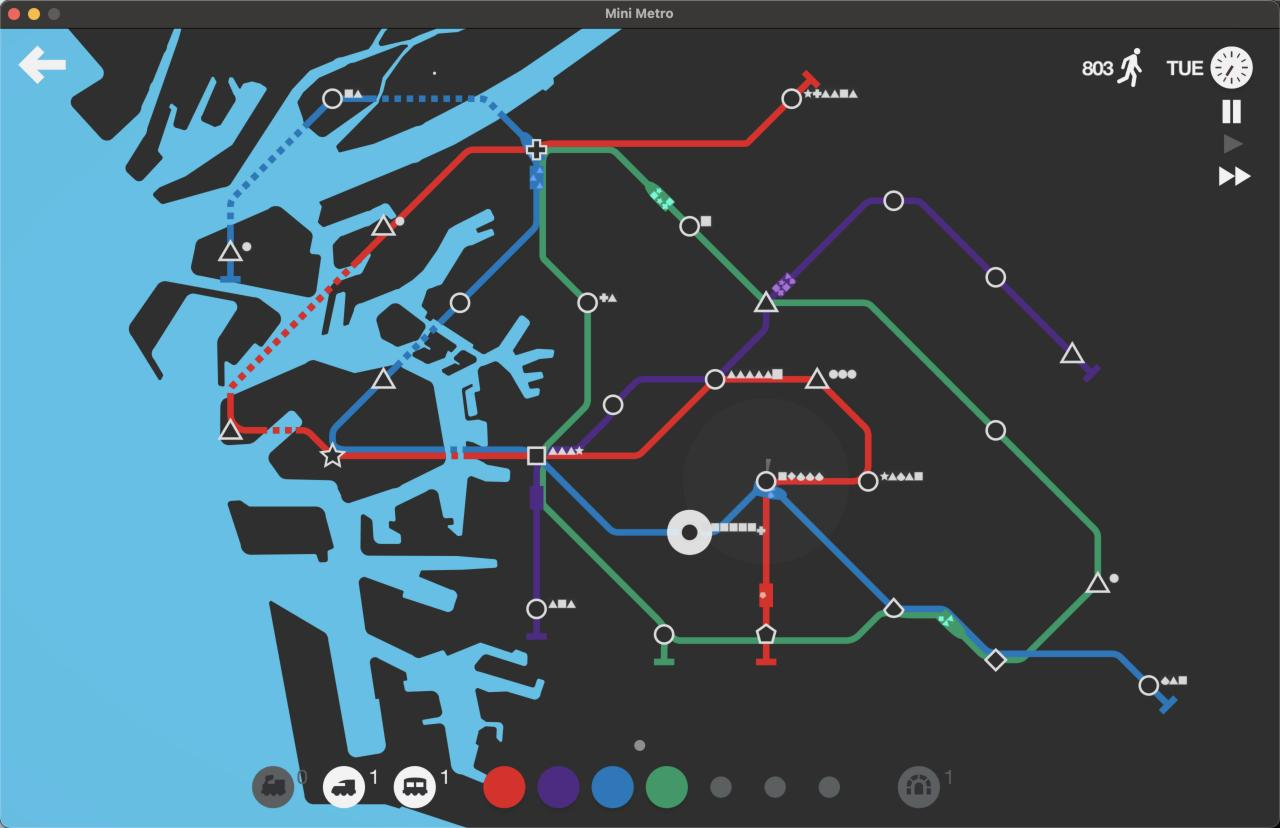CIRCLE: (754, 290, 779, 314), (804, 367, 829, 390), (1085, 572, 1111, 594), (448, 291, 473, 313), (525, 598, 548, 621), (577, 292, 599, 314), (602, 394, 624, 416), (985, 420, 1007, 442), (780, 87, 802, 109), (755, 471, 777, 493), (678, 523, 701, 544), (679, 216, 701, 237), (704, 369, 726, 390), (858, 470, 879, 492), (322, 87, 343, 109), (985, 266, 1006, 288), (653, 624, 674, 646), (1138, 674, 1159, 696), (883, 190, 904, 211), (883, 597, 904, 618), (1224, 133, 1244, 153), (1219, 166, 1235, 186)
CROSS: (526, 137, 549, 164)
GEM: (984, 648, 1008, 673)
PENTAGON: (754, 620, 778, 648)
STAR: (319, 443, 346, 469)
TRIANGLE: (1060, 341, 1086, 366), (370, 214, 398, 237), (371, 368, 396, 392), (217, 239, 243, 262), (219, 418, 243, 442)
